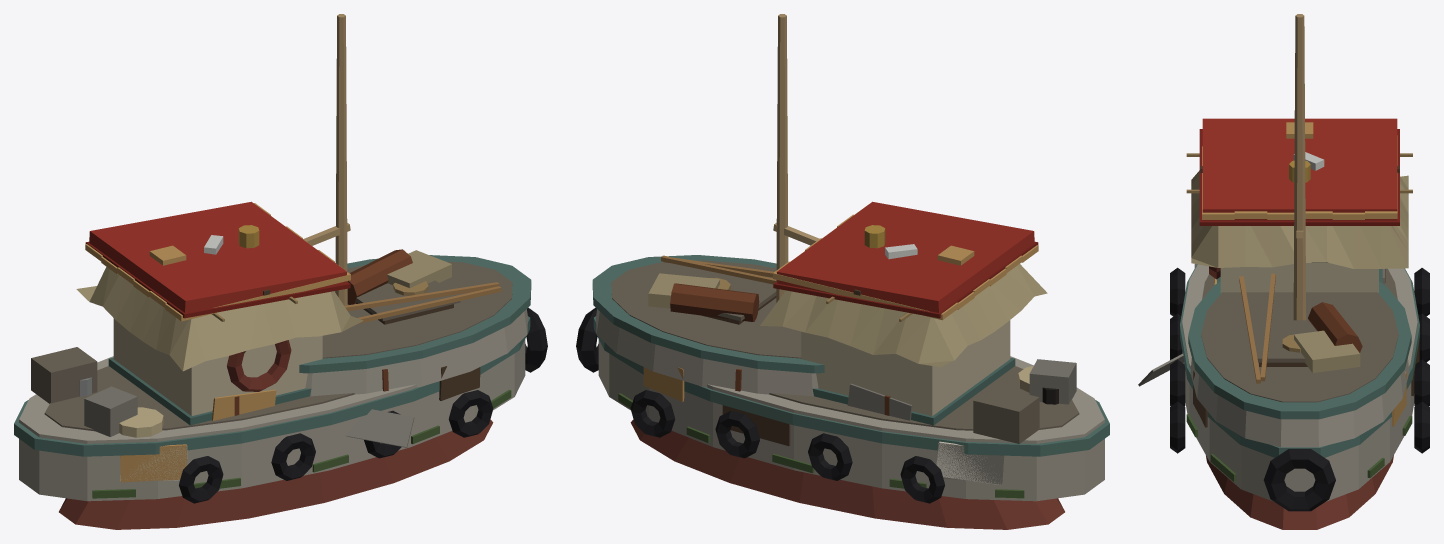
The model's file is boat_t0_stages.glb.
3 renders of one model, left to right at view 1: azimuth 30°, elevation 25°; view 2: azimuth 150°, elevation 25°; view 3: azimuth 270°, elevation 25°, orthographic.
Parts seen in each view (by area): view 1: BOAT_T0_S0, BOAT_T0_S2__paint_roof, BOAT_T0_S1, BOAT_T0_S2; view 2: BOAT_T0_S0, BOAT_T0_S2__paint_roof, BOAT_T0_S2, BOAT_T0_S1; view 3: BOAT_T0_S0, BOAT_T0_S2__paint_roof, BOAT_T0_S2, BOAT_T0_S1.
Part boxes in pixels (x1,y1,x2,y2): BOAT_T0_S0: (14, 14, 531, 529); BOAT_T0_S2__paint_roof: (85, 201, 350, 318); BOAT_T0_S1: (85, 203, 479, 482); BOAT_T0_S2: (120, 225, 547, 481); BOAT_T0_S0: (592, 14, 1109, 529); BOAT_T0_S2__paint_roof: (773, 201, 1038, 318); BOAT_T0_S2: (576, 225, 1004, 503); BOAT_T0_S1: (643, 205, 1058, 483); BOAT_T0_S0: (1138, 14, 1419, 529); BOAT_T0_S2__paint_roof: (1199, 118, 1399, 225); BOAT_T0_S2: (1194, 122, 1429, 511); BOAT_T0_S1: (1193, 135, 1406, 427).
Bounding box in the file's own units: 6.61 × 5.4 × 3.22.
